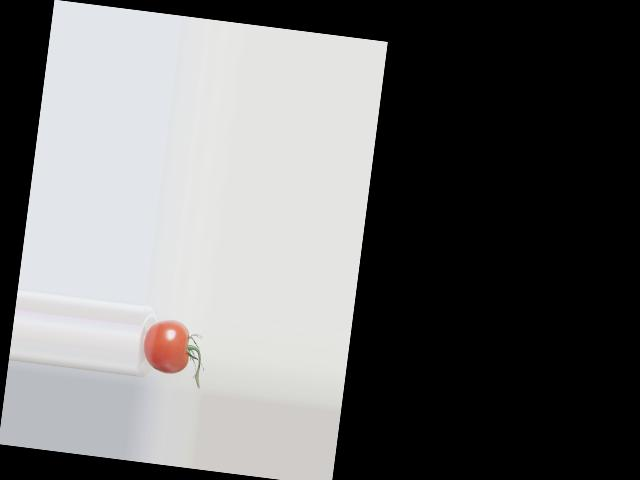tomato: (140, 317, 193, 376)
